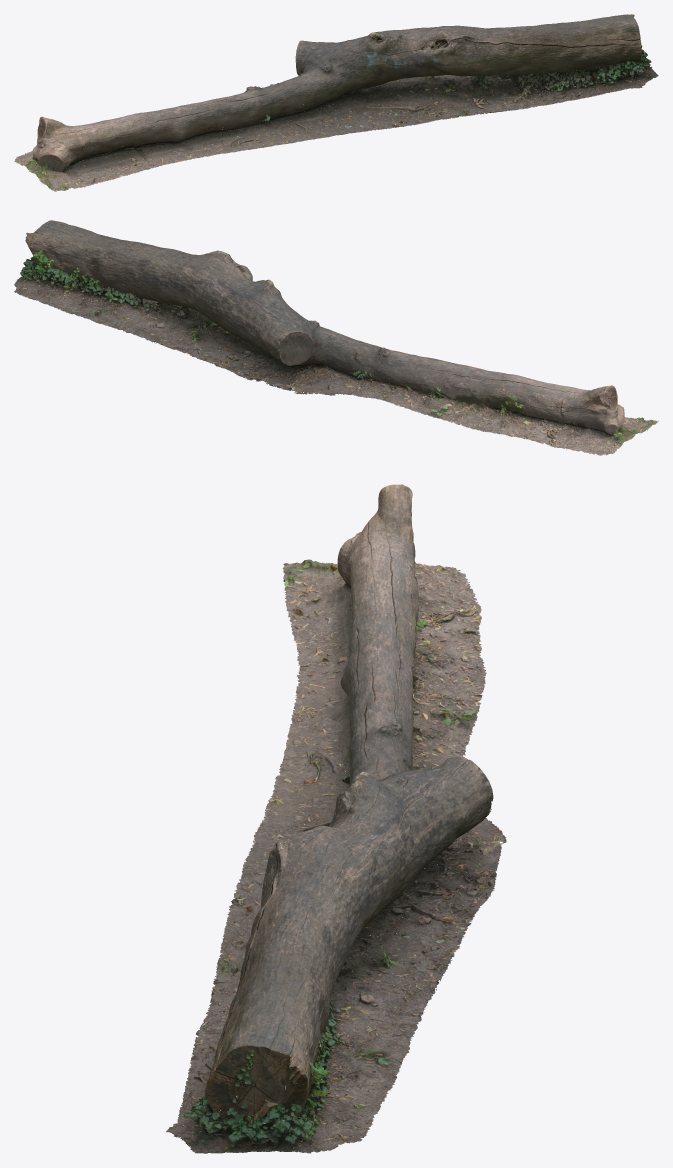
Rendered from sf-ivy-trunk-e9c05c.glb.
3 renders of one model, top to bottom at view 1: azimuth 30°, elevation 25°; view 2: azimuth 150°, elevation 25°; view 3: azimuth 270°, elevation 25°, orthographic. The views are drawn at different scales.
Visible parts, largest first — view 1: Model_material2_0, Model_material0_0, Model_material1_0; view 2: Model_material1_0, Model_material2_0, Model_material0_0; view 3: Model_material1_0, Model_material0_0, Model_material2_0.
Part boxes in pixels (x1,y1,x2,y2): Model_material2_0: (37,14,651,172); Model_material0_0: (14,23,650,185); Model_material1_0: (35,14,658,191); Model_material1_0: (14,220,658,438); Model_material2_0: (20,230,624,442); Model_material0_0: (14,248,635,455); Model_material1_0: (184,559,503,1153); Model_material0_0: (166,528,506,1152); Model_material2_0: (178,484,506,1152).
Bounding box in the file's own units: 7.39 × 0.8877 × 1.86.
Materials: 3 (3 with a texture image).
